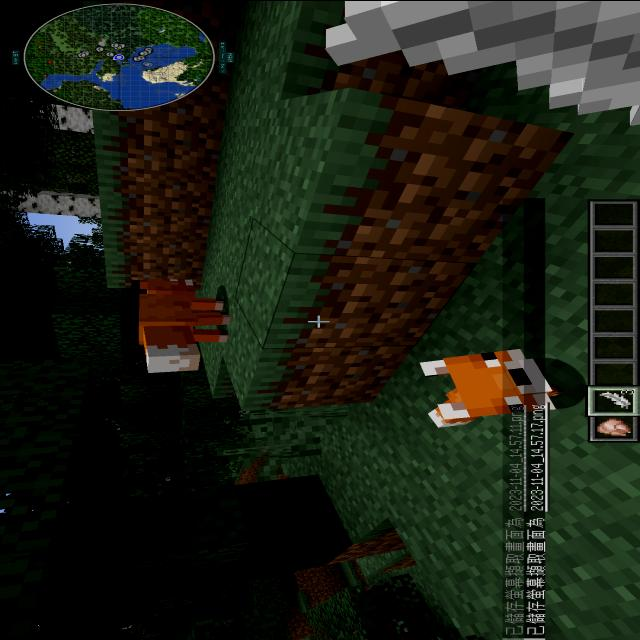Fox: (110, 247, 244, 383), (410, 340, 584, 440)
